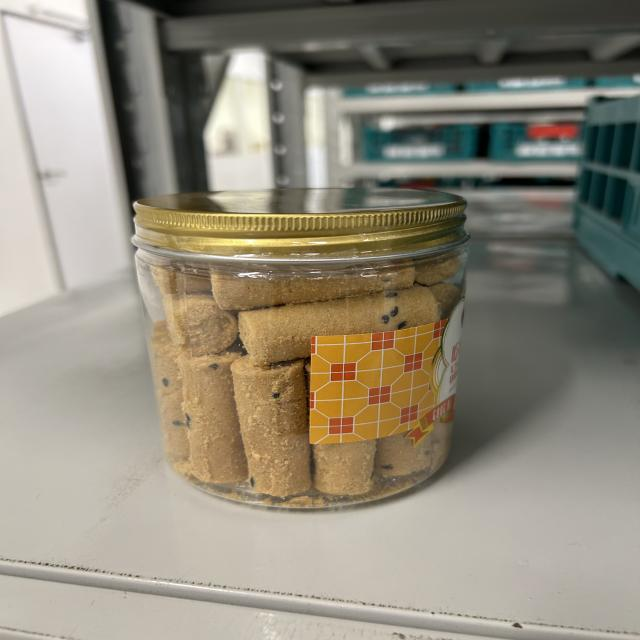object_name: (145, 208, 444, 485)
